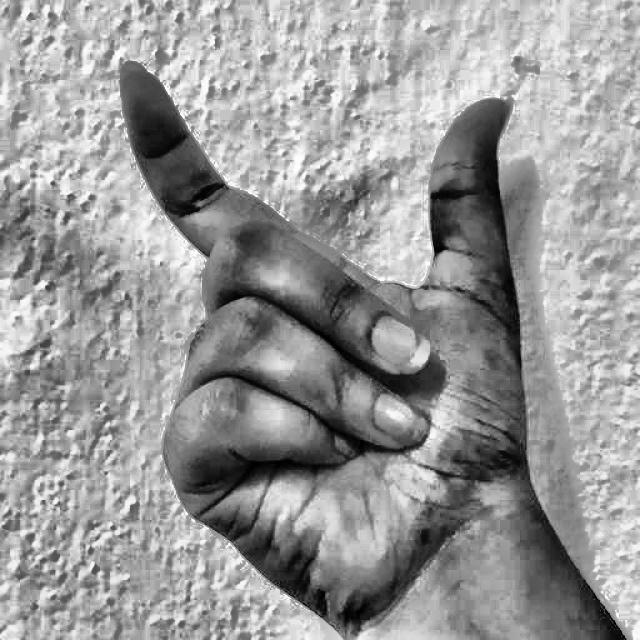ChandraBindu: (85, 31, 556, 619)
